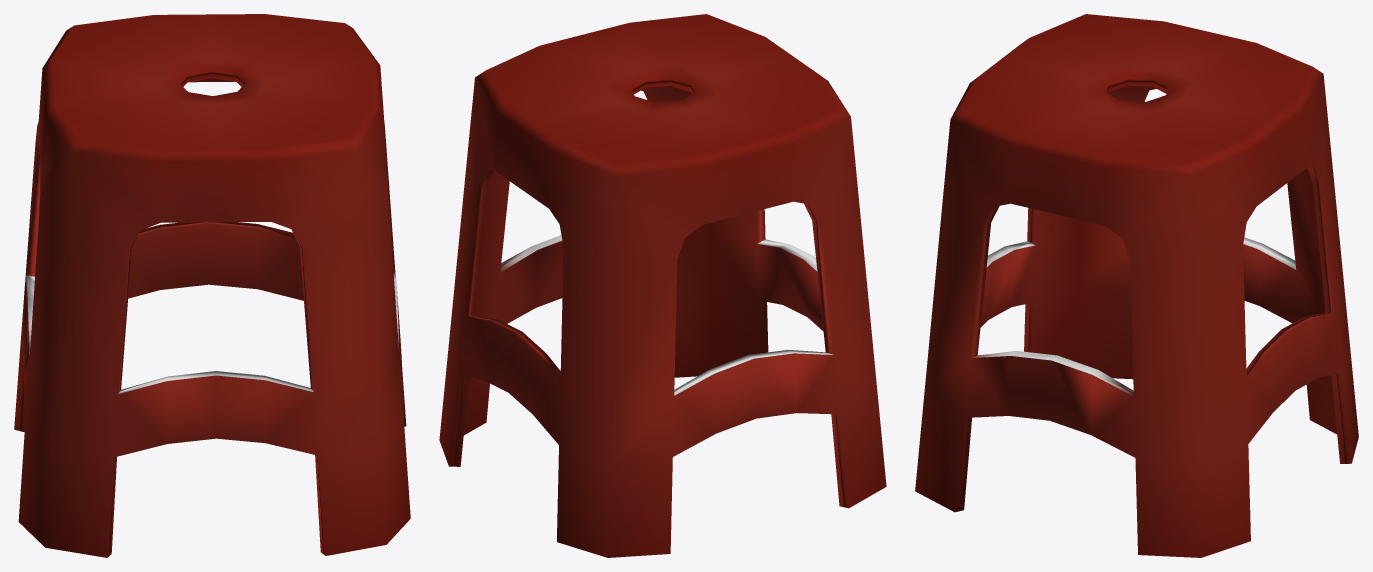
File: TerraceChaitRed_SM.fbx
The picture shows the model from 3 angles, left to right: view 1: azimuth 30°, elevation 25°; view 2: azimuth 150°, elevation 25°; view 3: azimuth 270°, elevation 25°; orthographic projection. The views are drawn at different scales.
Visible parts, largest first — view 1: TerraceChaitRed_SM; view 2: TerraceChaitRed_SM; view 3: TerraceChaitRed_SM.
Part boxes in pixels (x1,y1,x2,y2): TerraceChaitRed_SM: (14, 14, 410, 557); TerraceChaitRed_SM: (439, 14, 886, 557); TerraceChaitRed_SM: (915, 14, 1358, 557).
Size of the model in its own units: 57.79 by 54.15 by 57.79.
